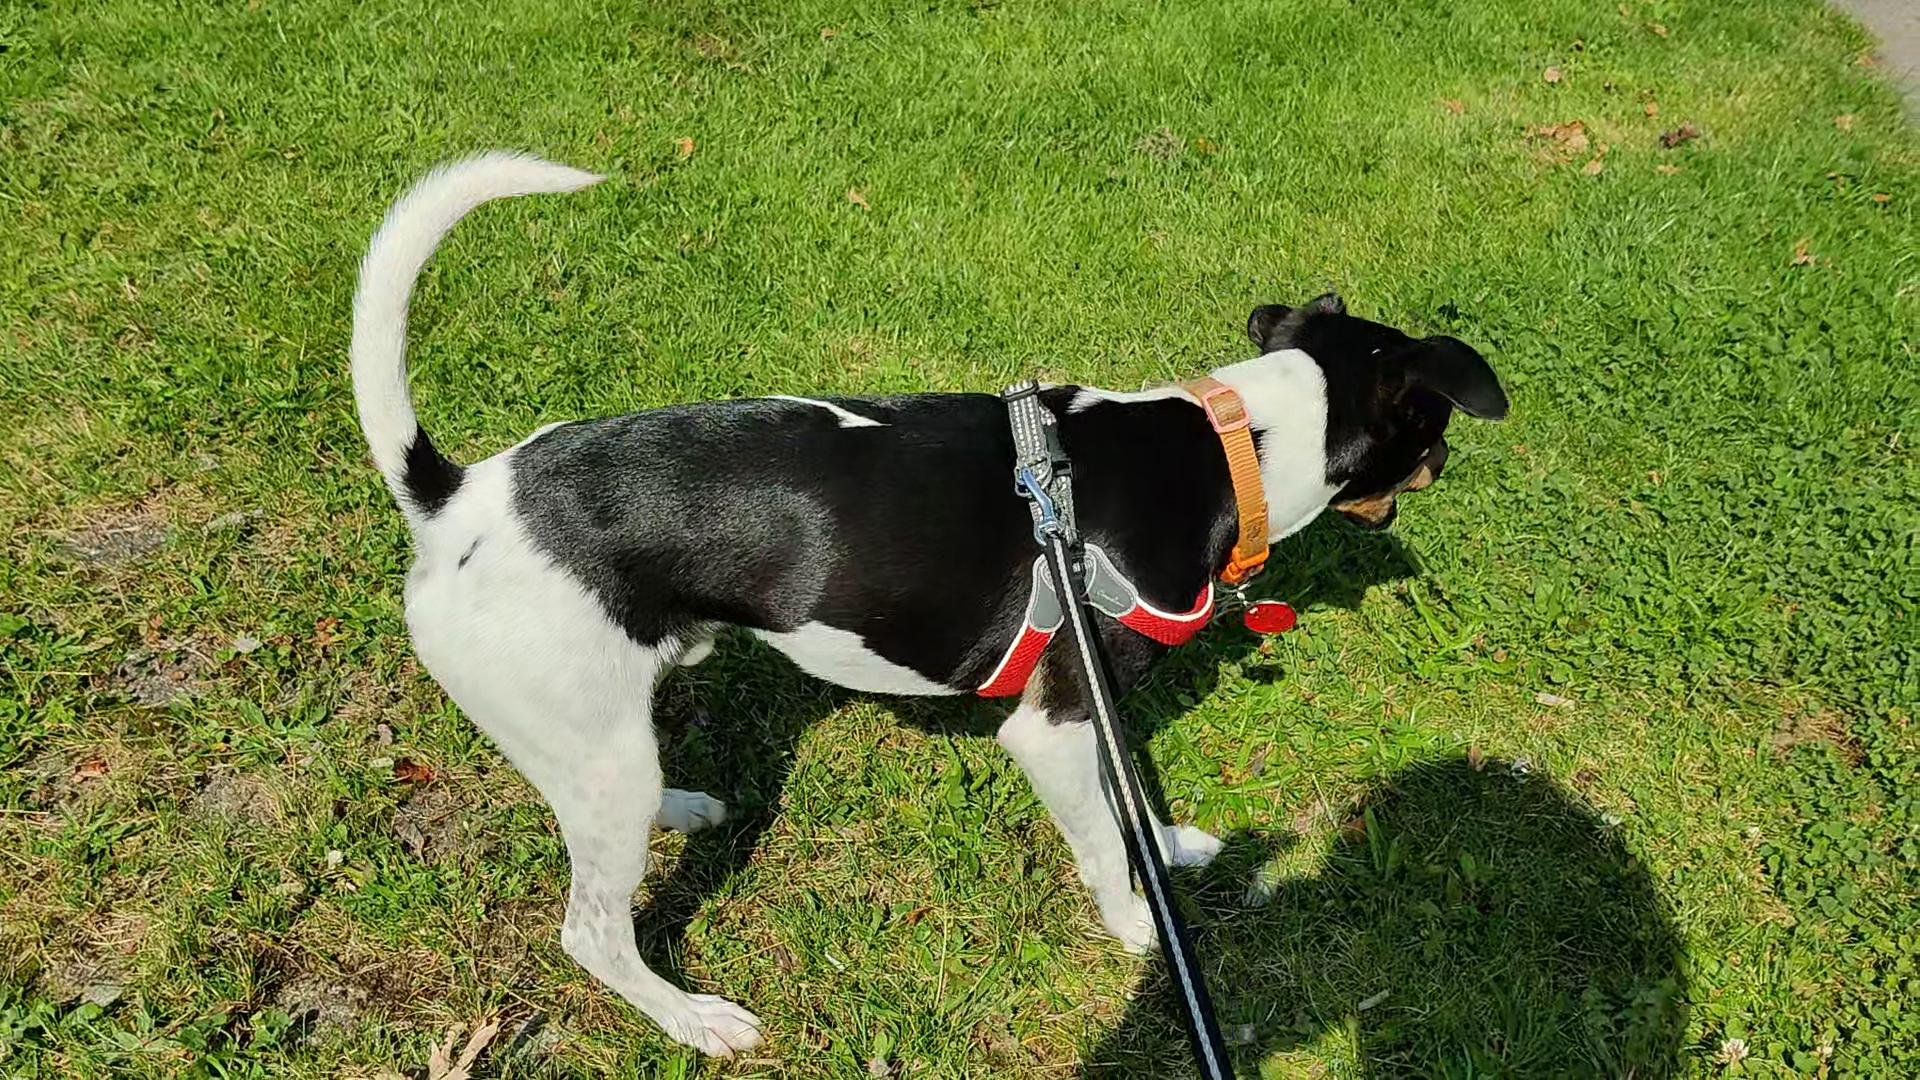Dog: (334, 123, 1527, 1073)
